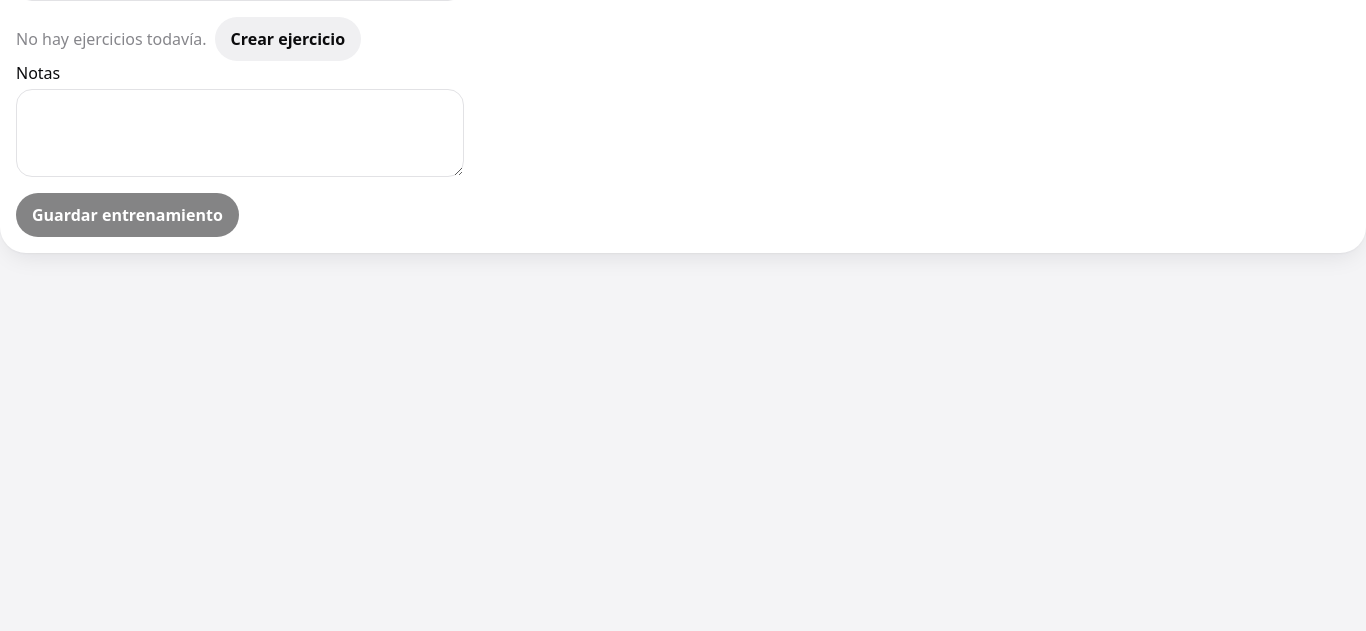
Test case: LogWorkoutForm › creates an exercise inline, logs a set, and saves the workout
Expected: the text "No hay ejercicios todavía." is shown, [16,27,207,51]
Click the button "Crear ejercicio" at (288, 39), box [215,17,361,61]
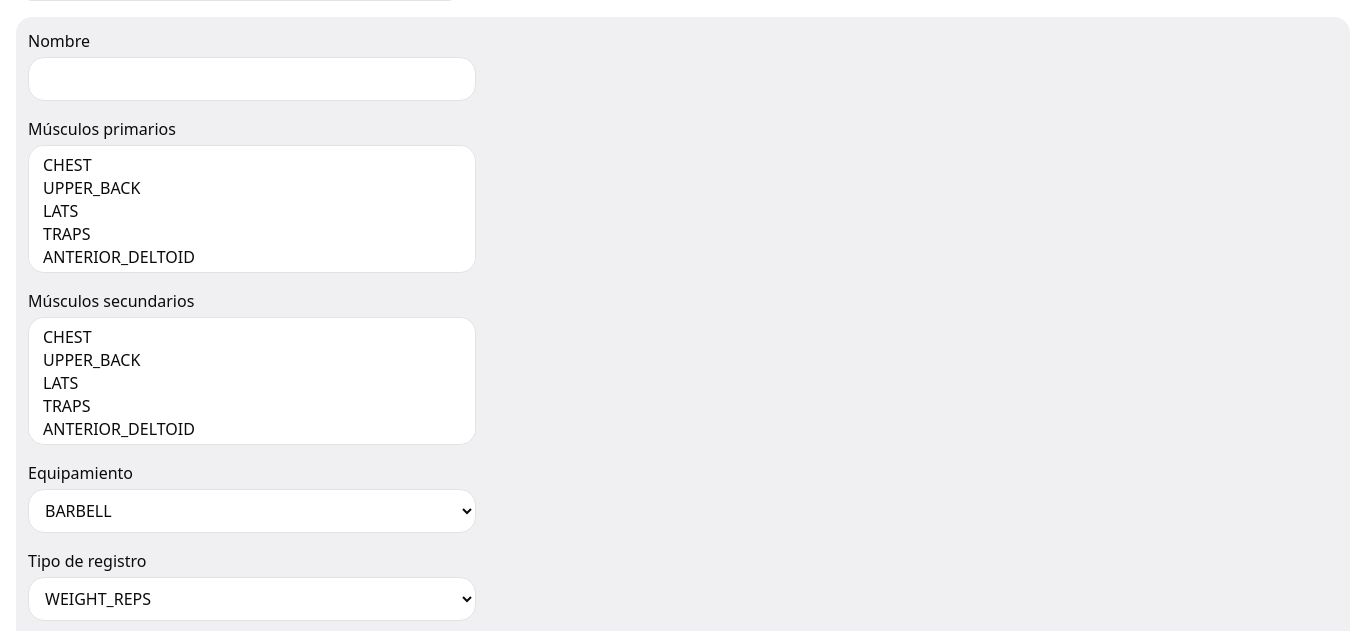
Type "Bench Press" into the field labelled "Nombre" at (252, 79), box [28,57,476,101]
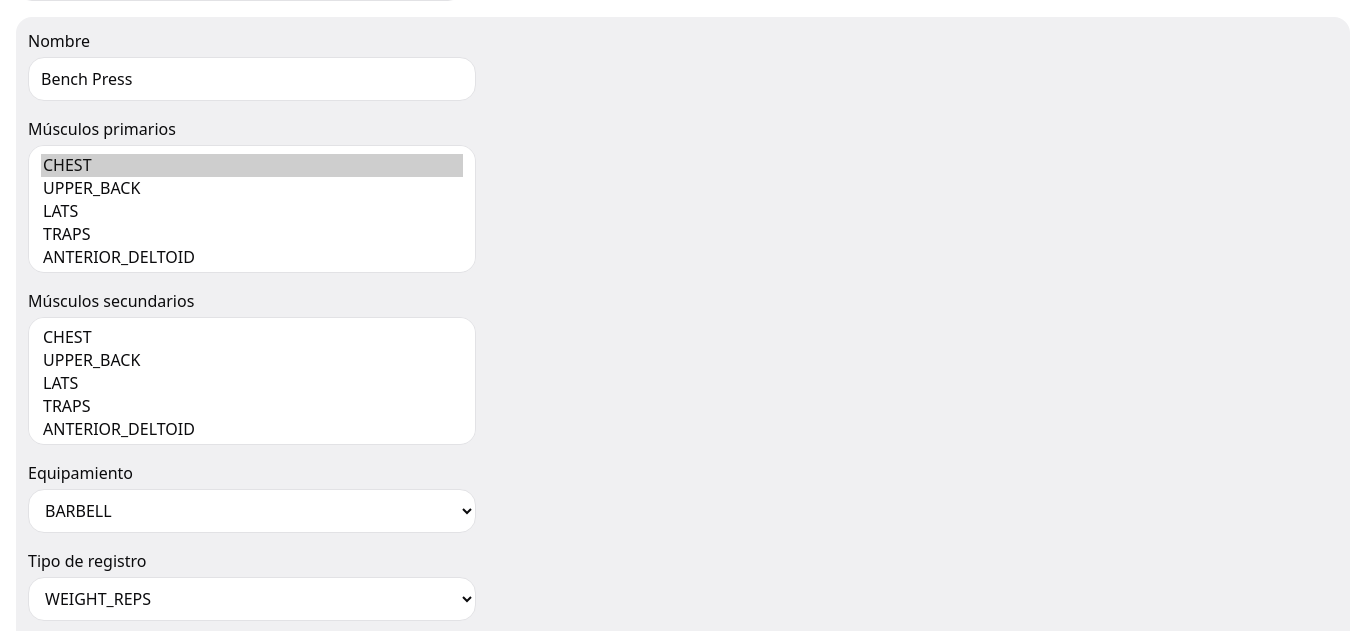
Select "CHEST" in the dropdown labelled "Músculos primarios" at (252, 209), box [28,145,476,273]
(page scrolled)
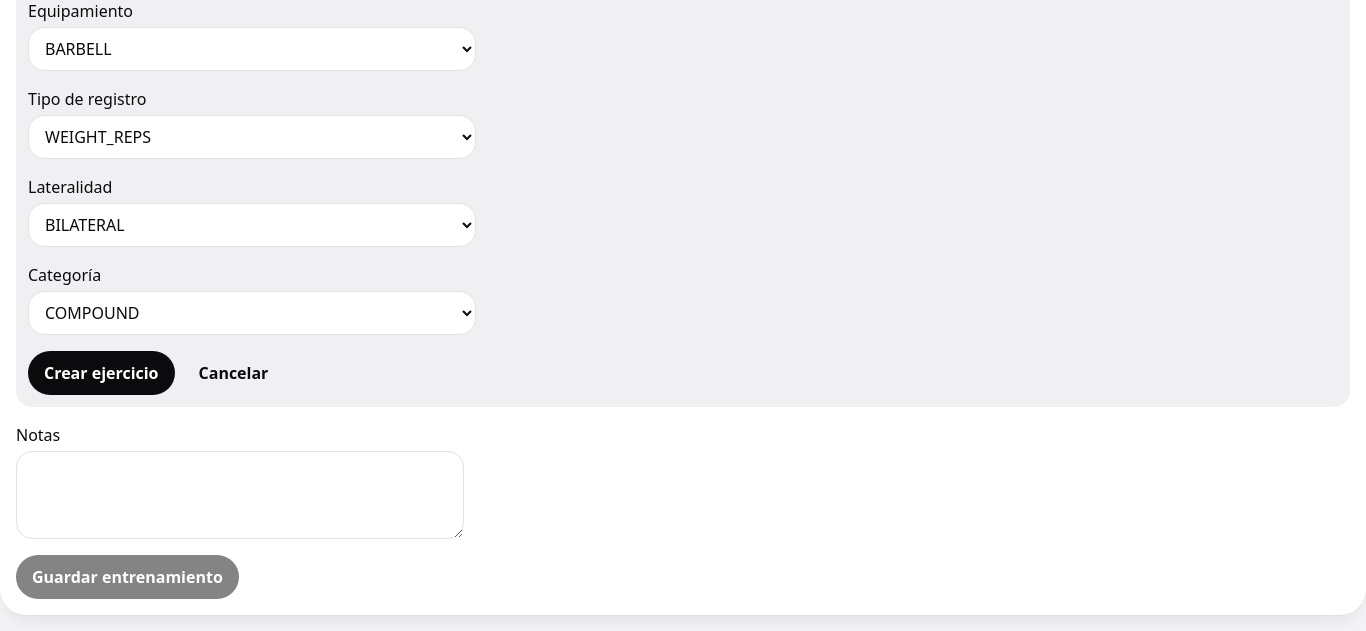
Click the button "Crear ejercicio" at (101, 373), box [28,351,174,395]
(page scrolled)
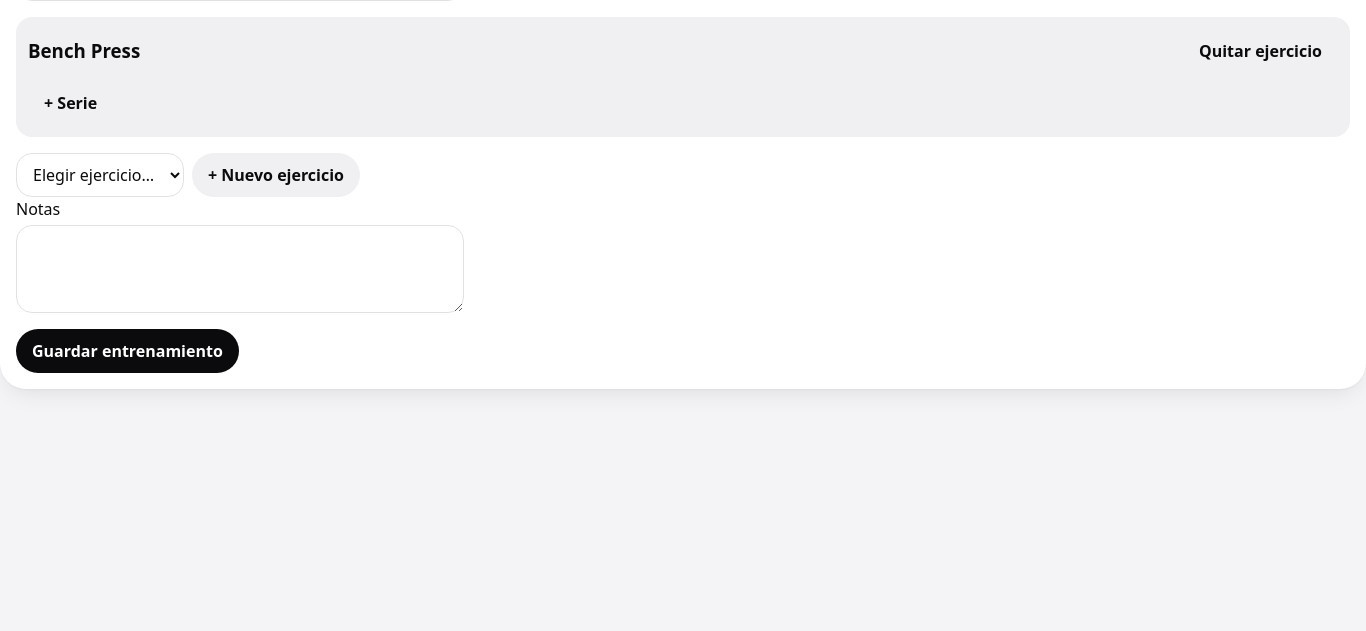
Expected: the heading "Bench Press" is shown, [28,39,140,63]
Click the button "+ Serie" at (71, 103), box [28,81,113,125]
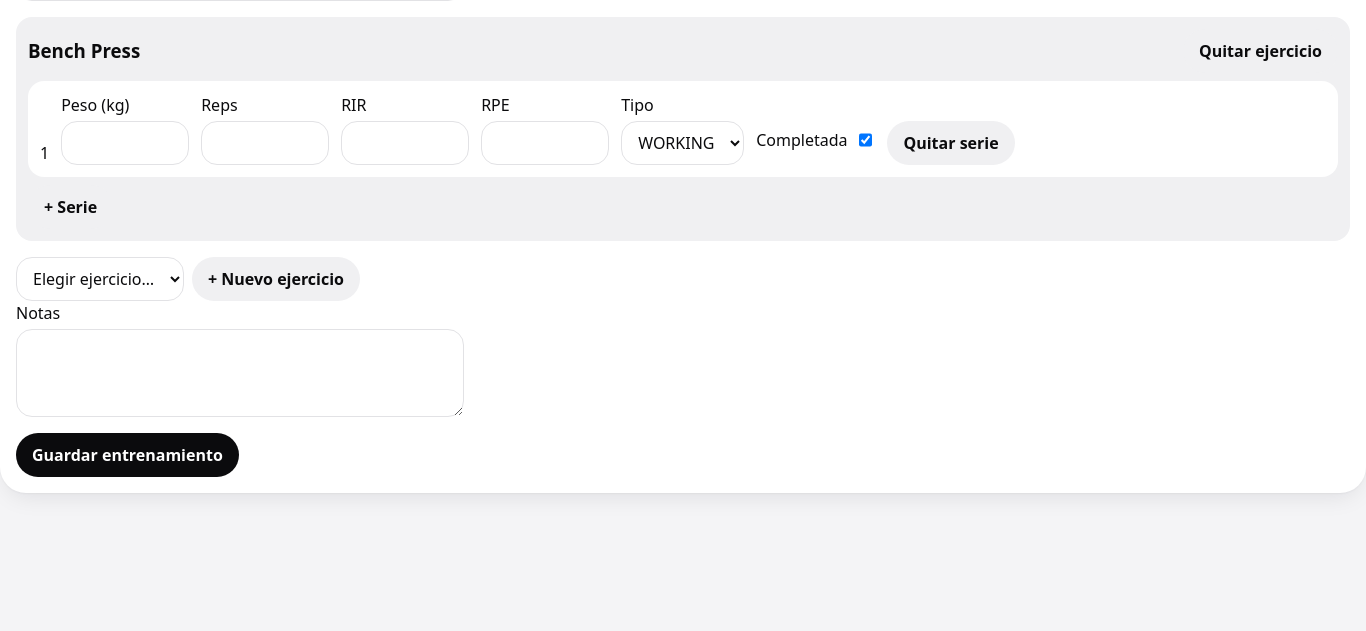
Type "80" into the number field labelled "Peso (kg)" at (125, 143), box [61,121,189,165]
Type "8" into the number field labelled "Reps" at (265, 143), box [201,121,329,165]
Click the button "Guardar entrenamiento" at (127, 455), box [16,433,239,477]
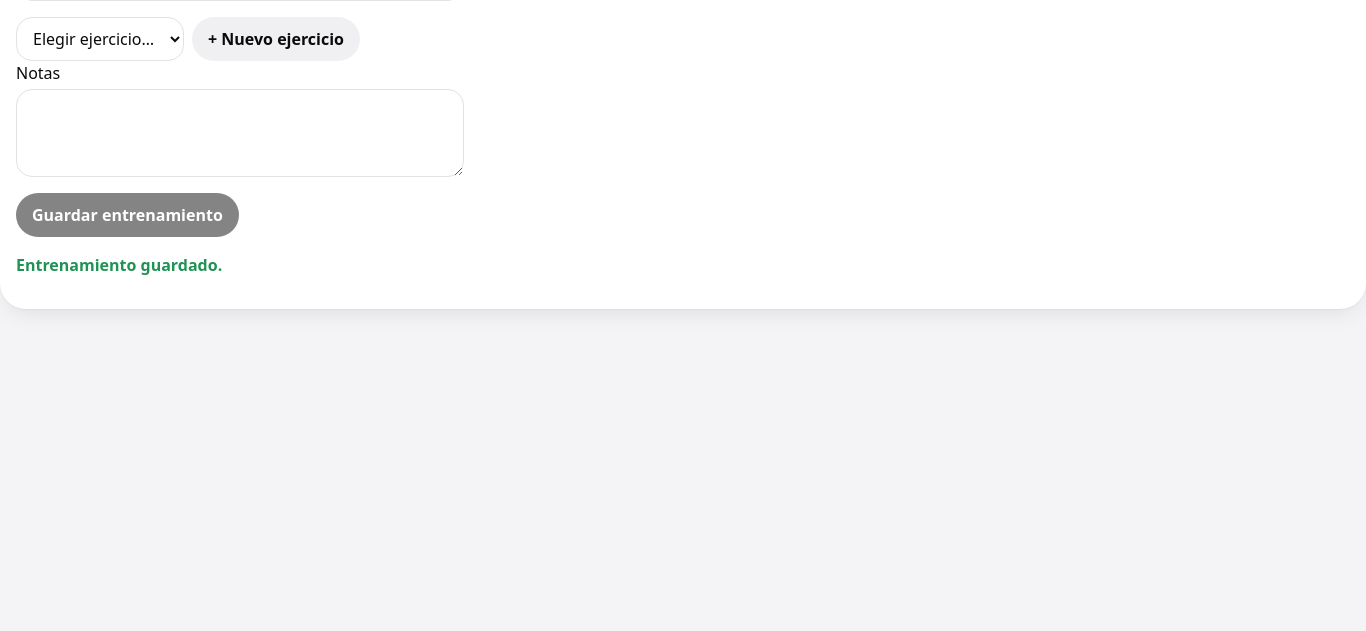
Expected: the message reads "Entrenamiento guardado.", [16,254,222,276]
